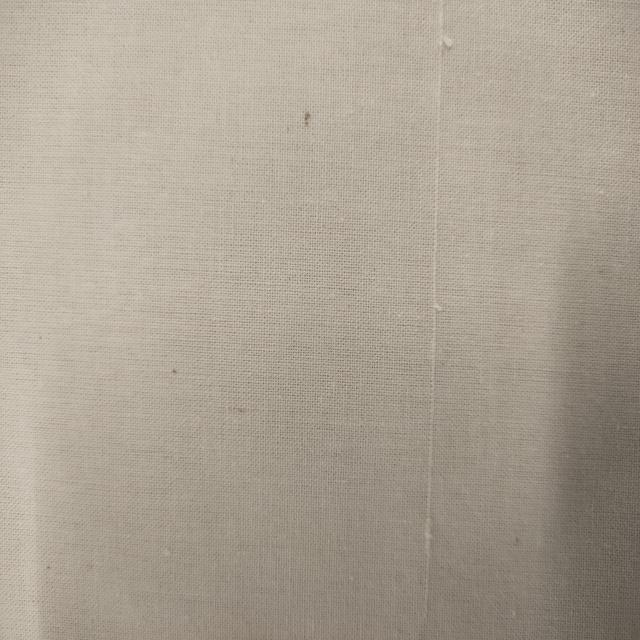stains: (398, 5, 469, 640)
